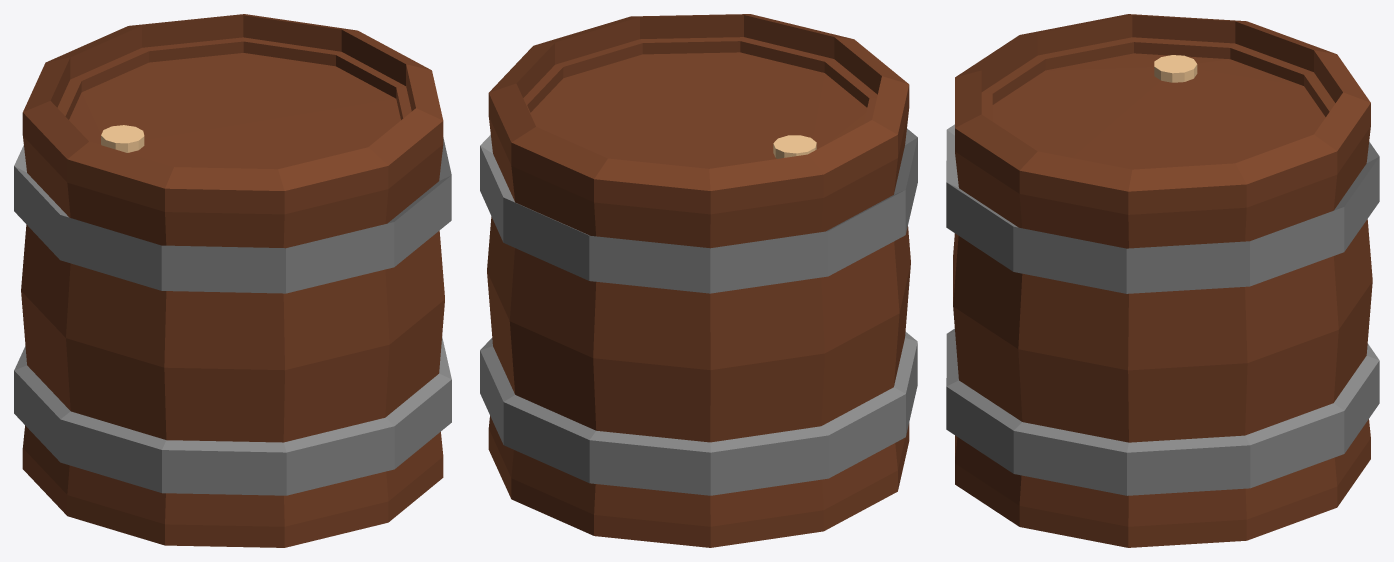
File: SM_Fass1.fbx
3 renders of one model, left to right at view 1: azimuth 30°, elevation 25°; view 2: azimuth 150°, elevation 25°; view 3: azimuth 270°, elevation 25°, orthographic.
Parts seen in each view (by area): view 1: Cylinder; view 2: Cylinder; view 3: Cylinder.
Boxes of the visible parts, x1=… form: Cylinder: x1=14, y1=14, x2=451, y2=547; Cylinder: x1=480, y1=14, x2=917, y2=547; Cylinder: x1=946, y1=14, x2=1379, y2=547.
Bounding box in the file's own units: 210 × 200 × 208.
